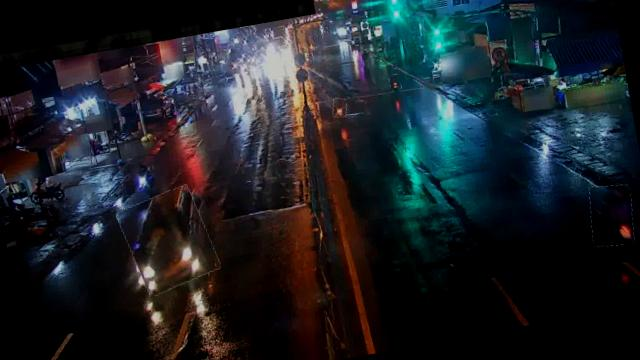Bike: (586, 180, 640, 248), (132, 160, 158, 198), (331, 97, 348, 118), (388, 74, 403, 93)
Car: (117, 185, 219, 296)
